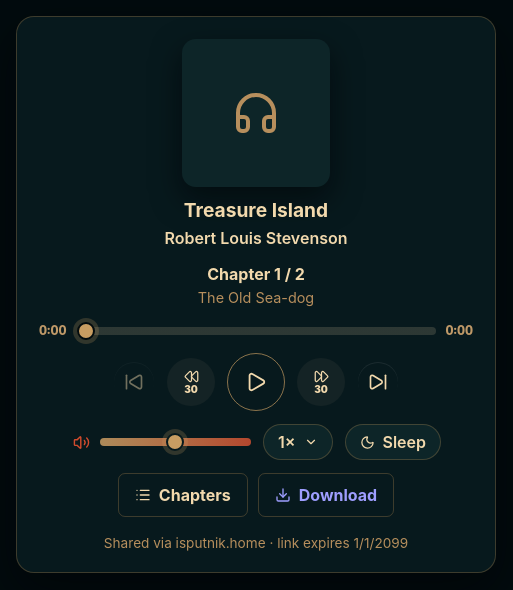
it: Share page audiobook player › lists the chapters with their clock lengths
Expected: the text "Chapter 1 / 2" is shown, [207,263,305,286]
Click the button "Chapters": x=183, y=495 [118,473,248,517]
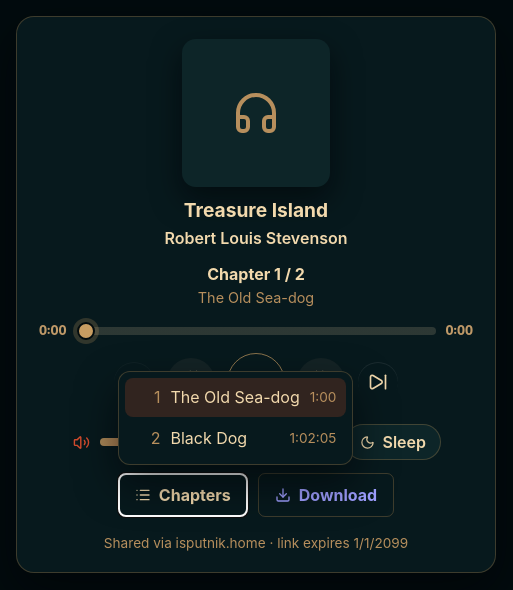
Expected: the text "1:00" is shown, [310,388,336,407]
Expected: the text "1:02:05" is shown, [290,429,336,449]
